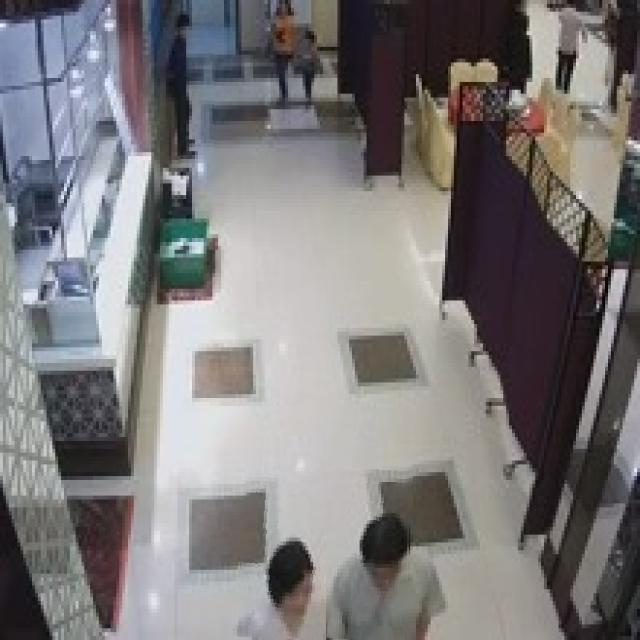normal: (326, 400, 412, 640), (237, 418, 328, 640), (157, 9, 214, 166)
